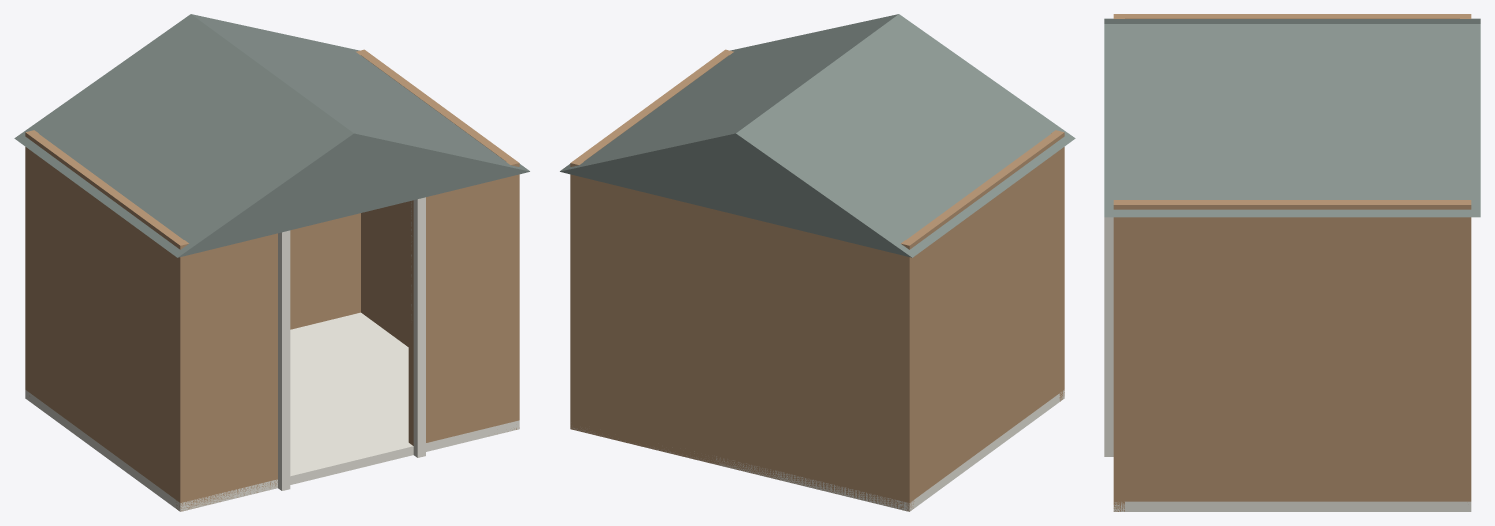
The model's file is SM_Backyard_Shed.fbx.
3 renders of one model, left to right at view 1: azimuth 30°, elevation 25°; view 2: azimuth 150°, elevation 25°; view 3: azimuth 270°, elevation 25°, orthographic. The views are drawn at different scales.
Visible parts, largest first — view 1: SM_Backyard_Shed; view 2: SM_Backyard_Shed; view 3: SM_Backyard_Shed.
Boxes of the visible parts, <box> form: SM_Backyard_Shed: <box>14,14,529,511</box>; SM_Backyard_Shed: <box>560,14,1075,511</box>; SM_Backyard_Shed: <box>1104,14,1480,511</box>.
Size of the model in its own units: 250 by 200 by 230.
